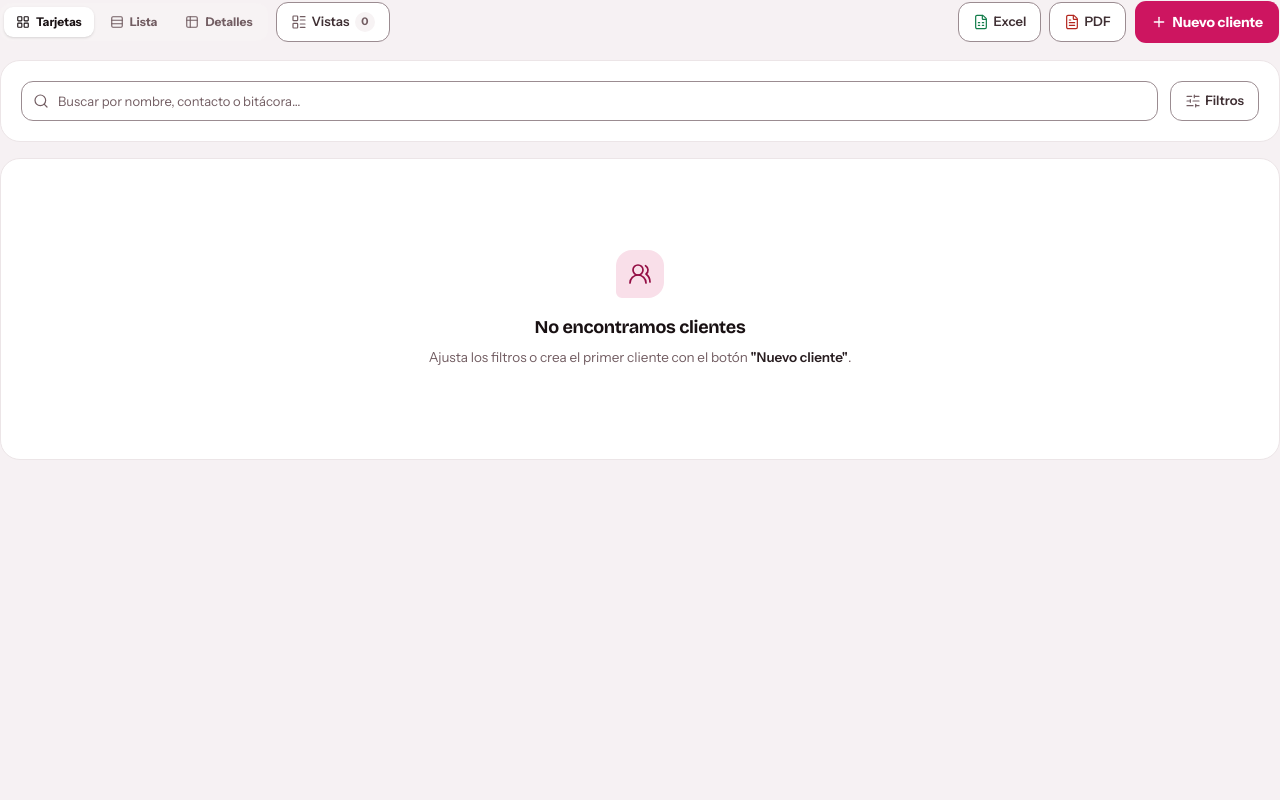
Scenario: ClientList › filters by a live catalog tag via Aplicar: query, URL, chip and count
The width and height of the screenshot is (1280, 800).
Click the button "Filtros": (1215, 101) [1170,81,1259,121]
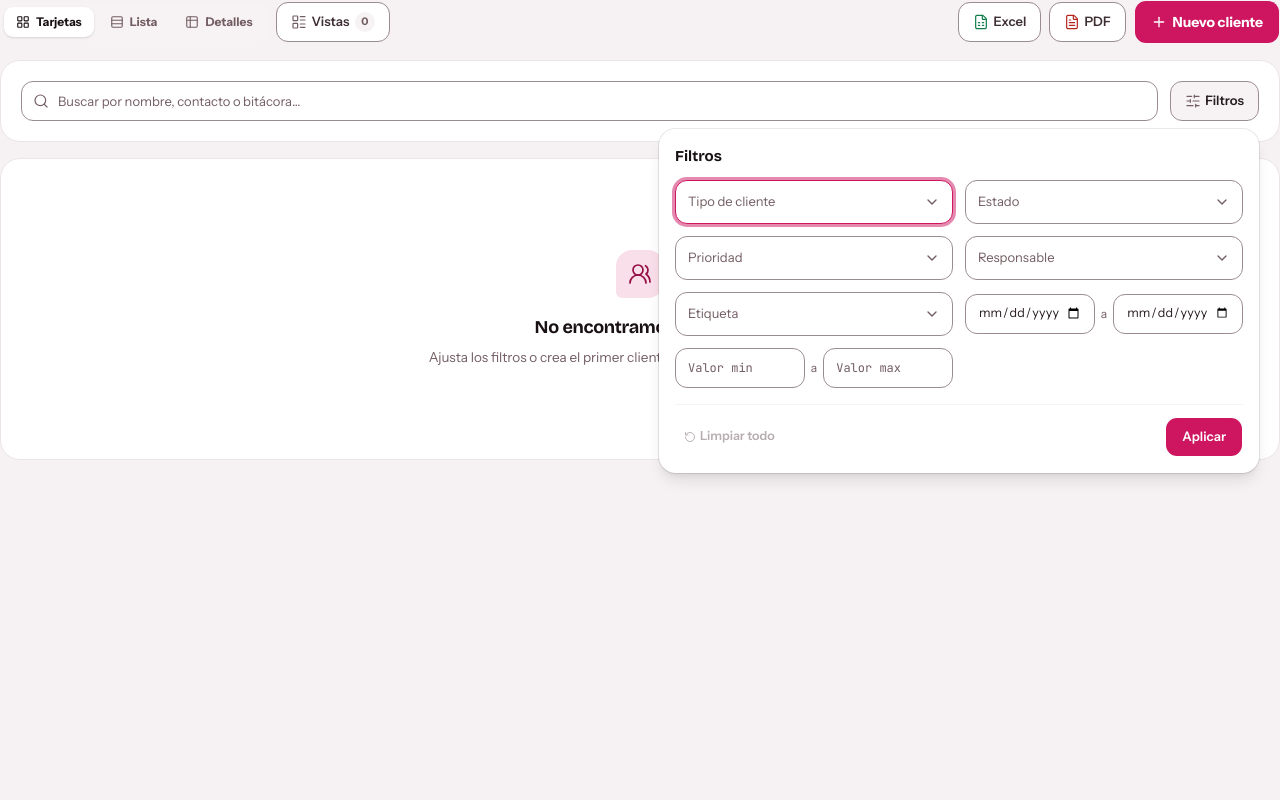
Click the dropdown labelled "Etiqueta": (713, 313) [675,292,953,336]
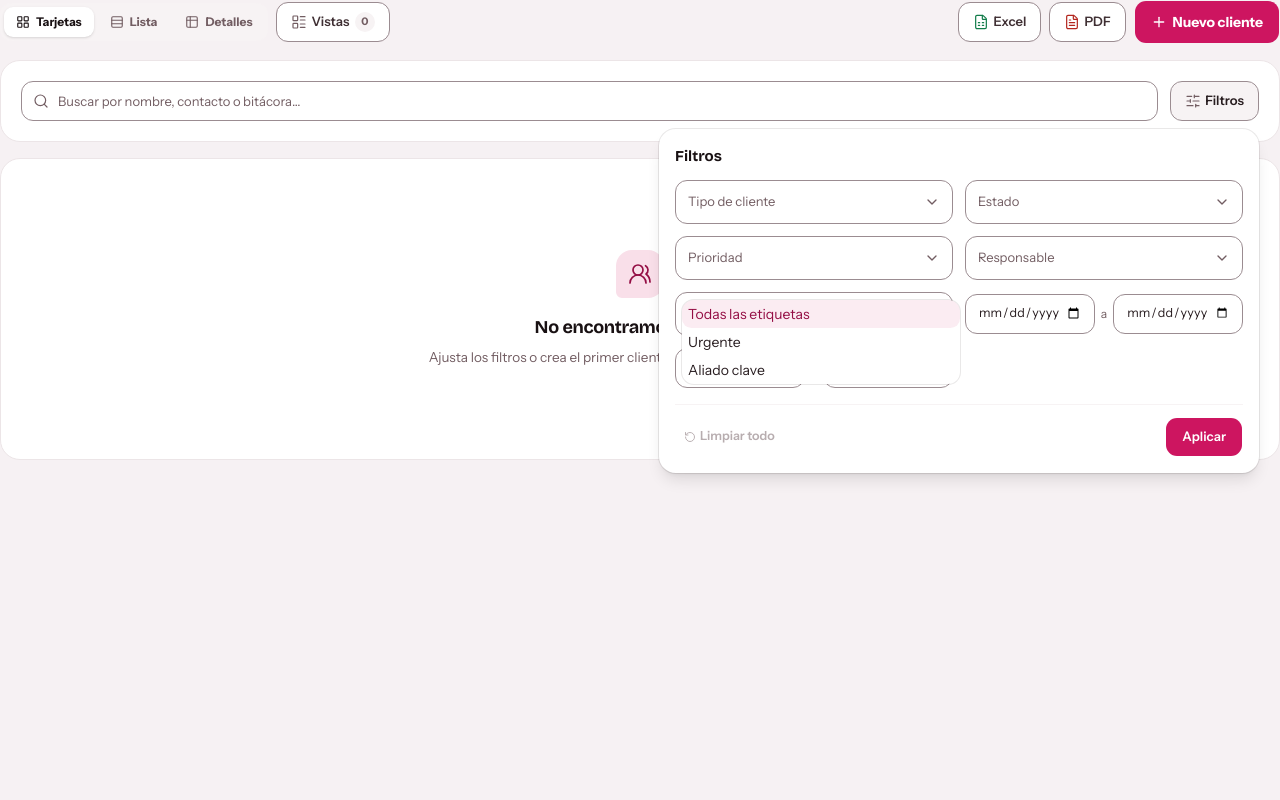
Click the option "Aliado clave": (726, 370) [688,360,765,378]
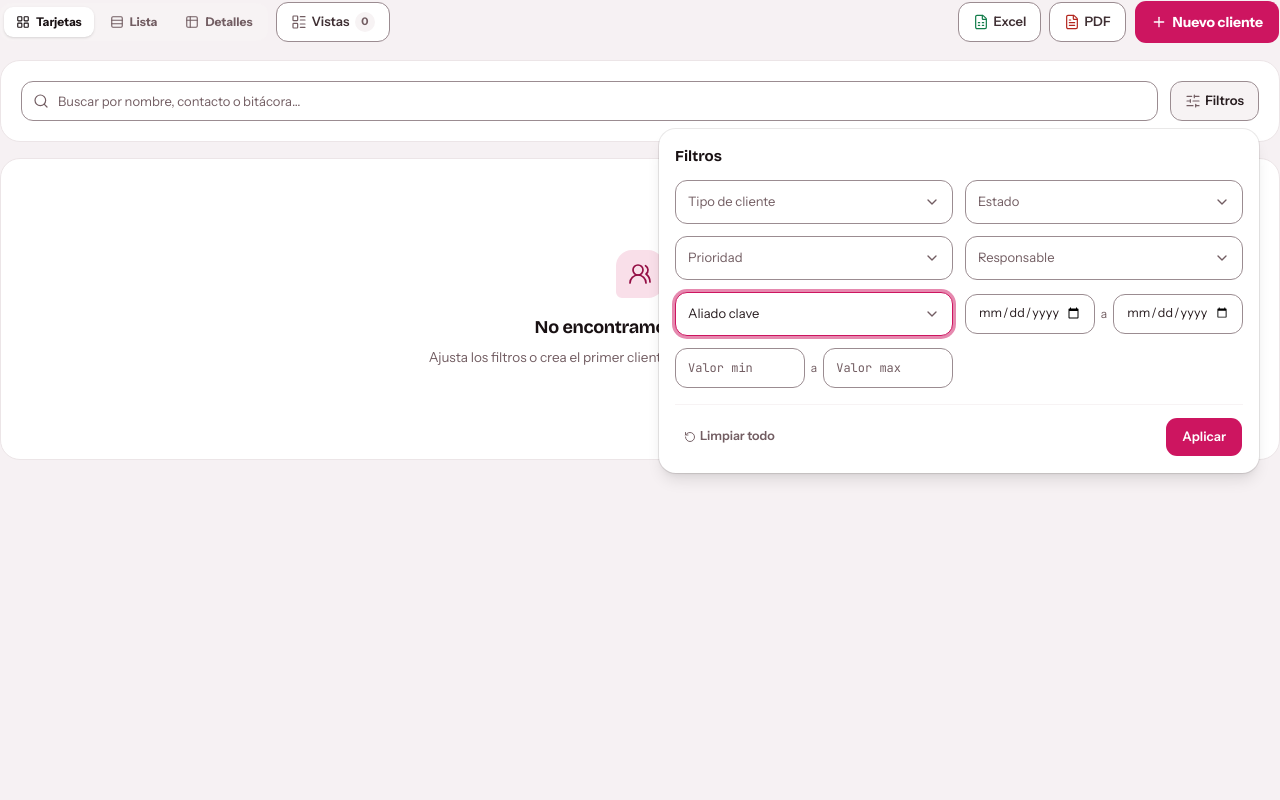
Click the button "Aplicar": (1204, 436) [1165,416,1243,456]
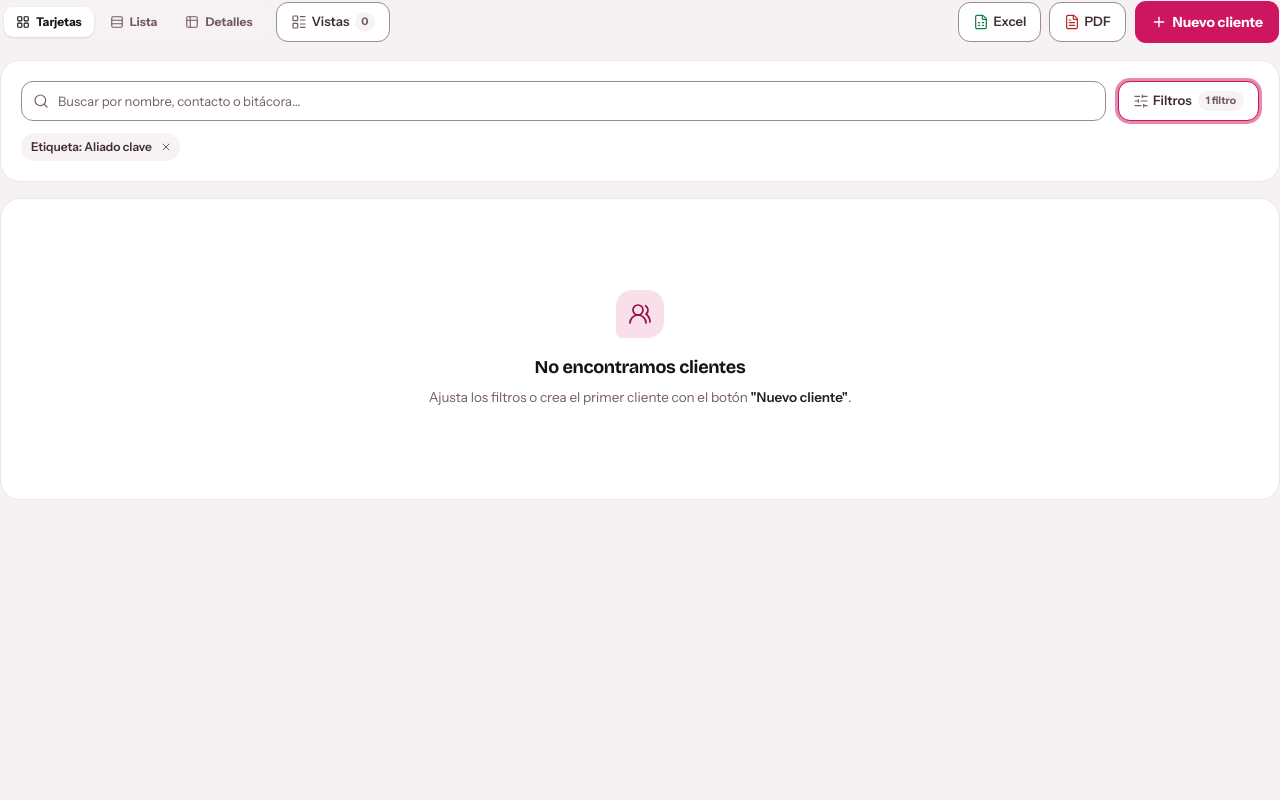
Check: the text "Etiqueta: Aliado clave" is shown, box [21,133,180,161]
Check: the button "Filtros 1 filtro" is shown, box [1118,81,1259,121]
